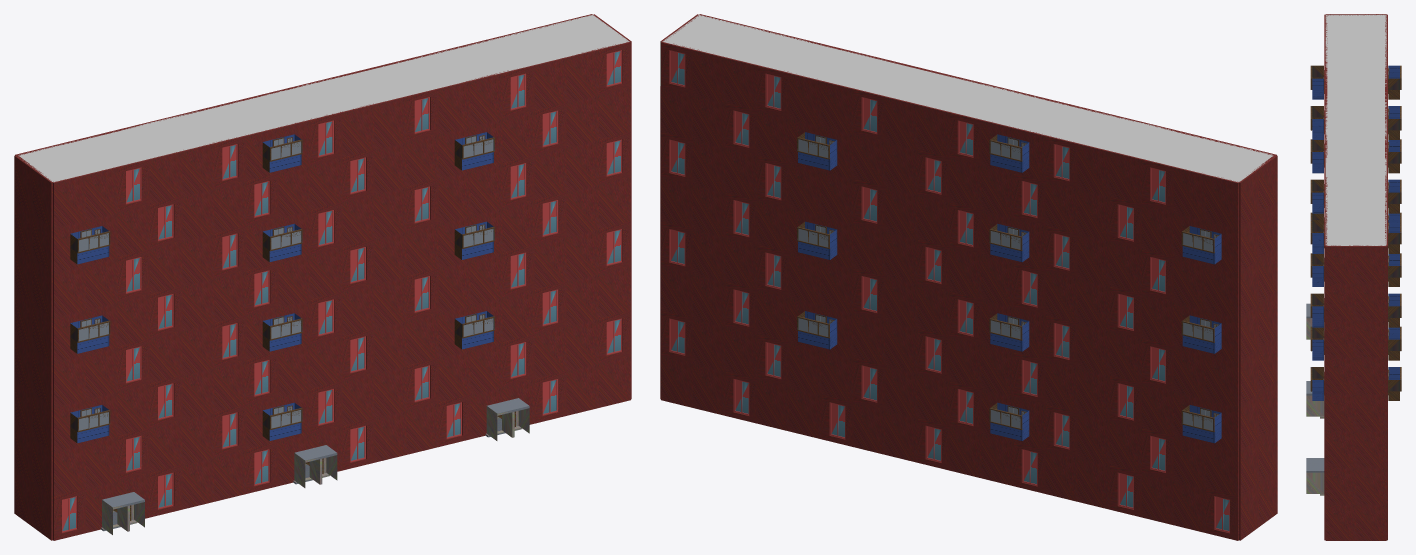
Rendered from house.obj.
The picture shows the model from 3 angles, left to right: view 1: azimuth 30°, elevation 25°; view 2: azimuth 150°, elevation 25°; view 3: azimuth 270°, elevation 25°; orthographic projection. The views are drawn at different scales.
Visible parts, largest first — view 1: geometry_0, geometry_174, geometry_169, geometry_178, geometry_161, geometry_173, geometry_157, geometry_162, geometry_170, geometry_177, geometry_31, geometry_144 (+161 smaller); view 2: geometry_0, geometry_362, geometry_367, geometry_383, geometry_366, geometry_374, geometry_378, geometry_379, geometry_382, geometry_375, geometry_236, geometry_349 (+159 smaller); view 3: geometry_0, geometry_426, geometry_414, geometry_416, geometry_424, geometry_427, geometry_412, geometry_418, geometry_420, geometry_422, geometry_415, geometry_417 (+26 smaller).
Part boxes in pixels (bbox=[...]): geometry_0: bbox=[18, 15, 629, 182]; geometry_174: bbox=[469, 72, 502, 125]; geometry_169: bbox=[342, 104, 374, 157]; geometry_178: bbox=[566, 49, 598, 102]; geometry_161: bbox=[149, 151, 182, 204]; geometry_173: bbox=[438, 81, 470, 133]; geometry_157: bbox=[53, 175, 85, 227]; geometry_162: bbox=[181, 143, 214, 196]; geometry_170: bbox=[373, 96, 406, 149]; geometry_177: bbox=[534, 57, 566, 110]; geometry_31: bbox=[342, 373, 374, 425]; geometry_144: bbox=[278, 165, 310, 217]; geometry_0: bbox=[662, 14, 1273, 182]; geometry_362: bbox=[1206, 175, 1238, 227]; geometry_367: bbox=[1077, 143, 1110, 196]; geometry_383: bbox=[693, 49, 725, 102]; geometry_366: bbox=[1109, 151, 1142, 204]; geometry_374: bbox=[917, 104, 949, 157]; geometry_378: bbox=[821, 81, 853, 133]; geometry_379: bbox=[789, 73, 821, 125]; geometry_382: bbox=[725, 57, 757, 110]; geometry_375: bbox=[885, 96, 917, 149]; geometry_236: bbox=[917, 373, 949, 425]; geometry_349: bbox=[981, 165, 1013, 217]; geometry_0: bbox=[1325, 14, 1386, 245]; geometry_426: bbox=[1325, 245, 1356, 283]; geometry_414: bbox=[1325, 467, 1356, 504]; geometry_416: bbox=[1325, 430, 1356, 467]; geometry_424: bbox=[1325, 283, 1356, 320]; geometry_427: bbox=[1356, 245, 1386, 283]; geometry_412: bbox=[1325, 504, 1356, 540]; geometry_418: bbox=[1325, 394, 1356, 430]; geometry_420: bbox=[1325, 357, 1356, 393]; geometry_422: bbox=[1325, 320, 1356, 356]; geometry_415: bbox=[1356, 467, 1386, 504]; geometry_417: bbox=[1356, 430, 1386, 467].
Size of the model in its own units: 54.3 by 32 by 9.38.
